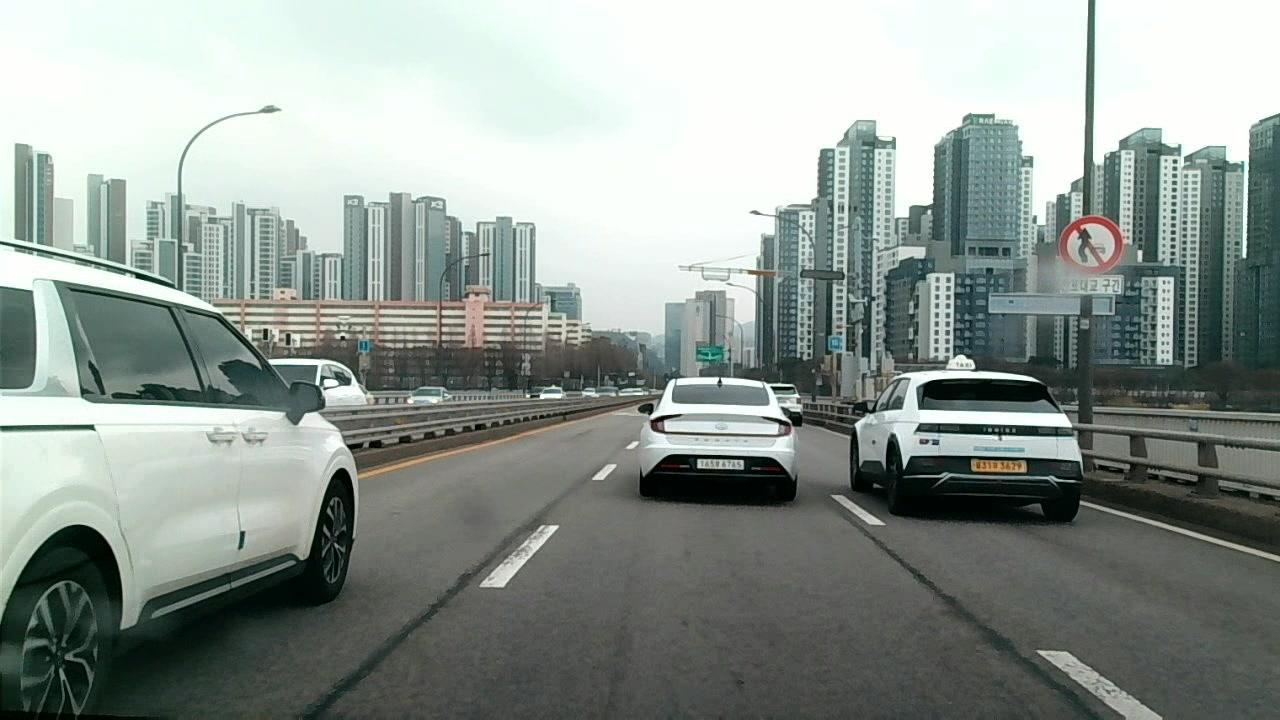vcrack: (912, 577, 1087, 713), (297, 606, 440, 718), (440, 504, 549, 600), (837, 508, 906, 567)
